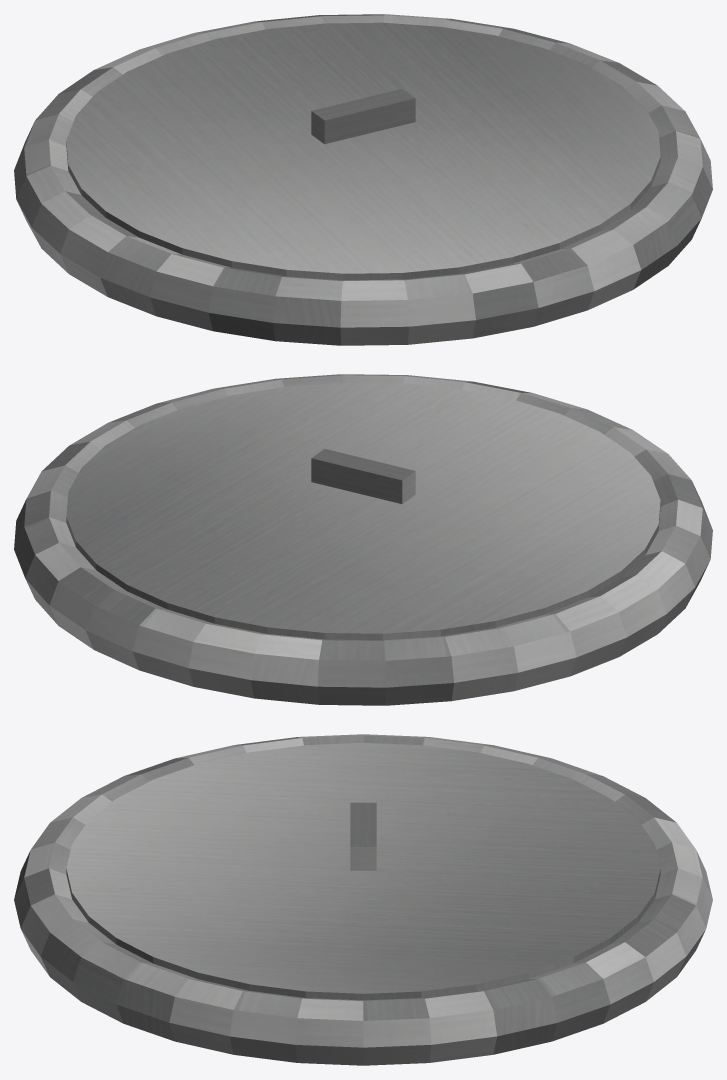
Rendered from hatch_round.glb.
3 views of the same model, one above another, from view 1: azimuth 30°, elevation 25°; view 2: azimuth 150°, elevation 25°; view 3: azimuth 270°, elevation 25° (orthographic).
Visible parts, largest first — view 1: Cylinder; view 2: Cylinder; view 3: Cylinder.
Part boxes in pixels (x1,y1,x2,y2): Cylinder: (14,14,712,345); Cylinder: (14,374,712,705); Cylinder: (14,734,712,1065).
Size of the model in its own units: 0.4 by 0.0675 by 0.4.
Materials: 1 (1 with a texture image).
